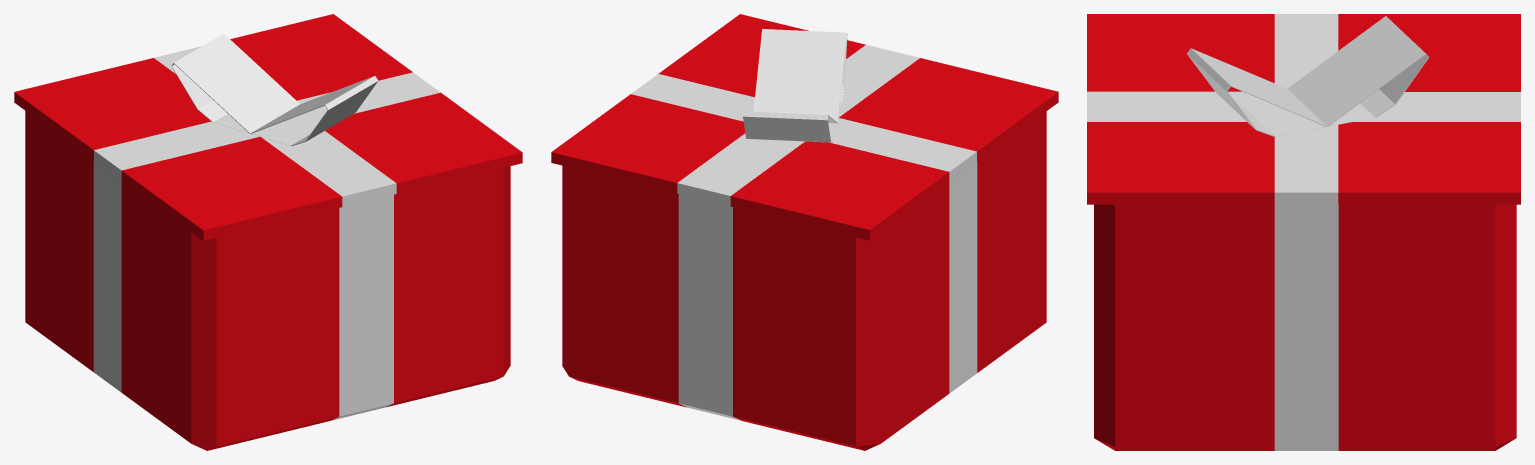
Rendered from giftbox.fbx.
The picture shows the model from 3 angles, left to right: view 1: azimuth 30°, elevation 25°; view 2: azimuth 150°, elevation 25°; view 3: azimuth 270°, elevation 25°; orthographic projection. The views are drawn at different scales.
Visible parts, largest first — view 1: Cube, Cube.002, Cube.001, Grid; view 2: Cube, Cube.001, Cube.002, Grid; view 3: Cube, Cube.002, Cube.001, Grid.
Boxes of the visible parts, <box> form: Cube: <box>25,111,510,450</box>; Cube.002: <box>108,83,522,240</box>; Cube.001: <box>14,14,427,171</box>; Grid: <box>171,33,378,146</box>; Cube: <box>562,111,1046,450</box>; Cube.001: <box>551,83,964,240</box>; Cube.002: <box>646,14,1058,170</box>; Grid: <box>743,29,847,142</box>; Cube: <box>1094,204,1516,450</box>; Cube.002: <box>1087,14,1303,204</box>; Cube.001: <box>1304,14,1520,204</box>; Grid: <box>1186,16,1429,136</box>.
Size of the model in its own units: 200 by 171 by 205.
